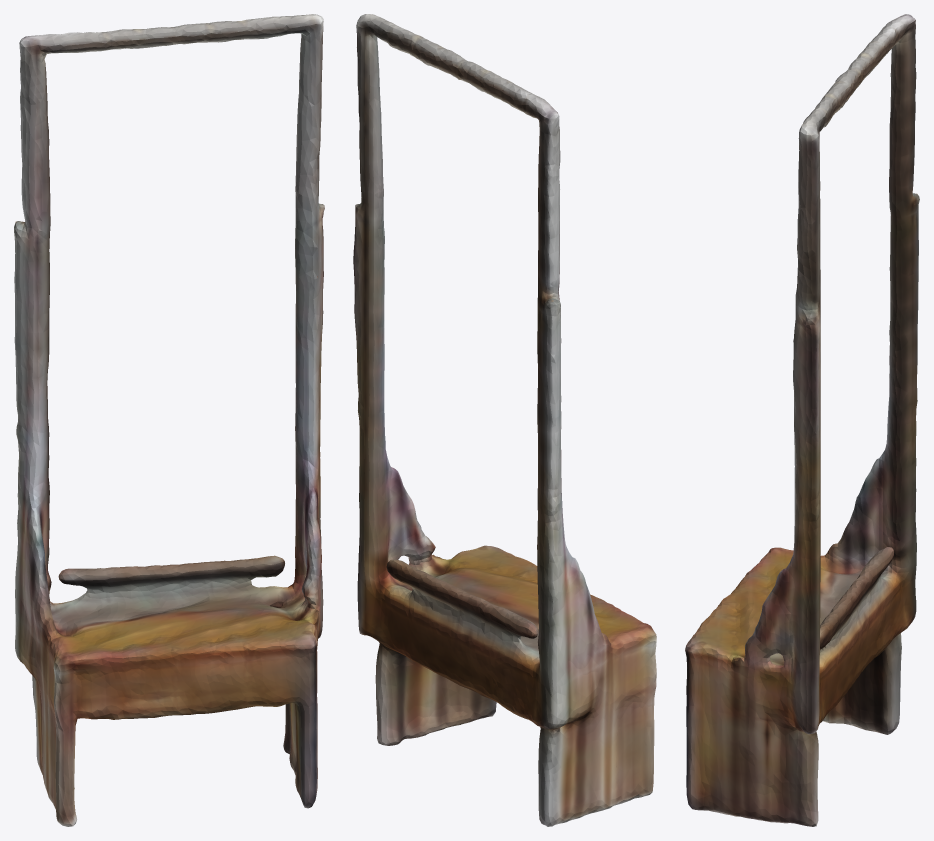
File: SESSION_1709338570_8496202_preview.gltf
The picture shows the model from 3 angles, left to right: view 1: azimuth 30°, elevation 25°; view 2: azimuth 150°, elevation 25°; view 3: azimuth 270°, elevation 25°; orthographic projection. The views are drawn at different scales.
Visible parts, largest first — view 1: output; view 2: output; view 3: output.
Part boxes in pixels (x1,y1,x2,y2): output: (14, 14, 324, 826); output: (353, 14, 656, 826); output: (685, 14, 919, 826).
Bounding box in the file's own units: 0.6232 × 1.53 × 0.4547.
Materials: 1 (1 with a texture image).
